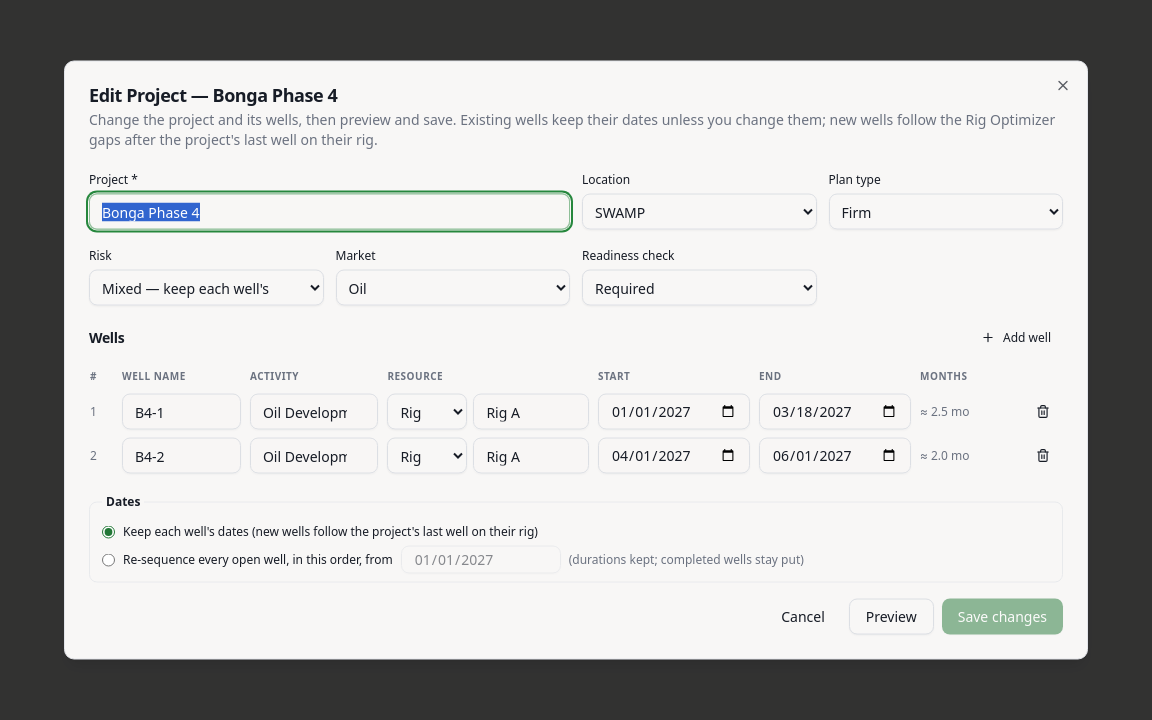
it: EditProjectDialog › sends a rename and a re-sequence
The width and height of the screenshot is (1152, 720).
Replace the text in the field labelled "Project *" with "Bonga 4B" at (330, 212), box [89,194,570,230]
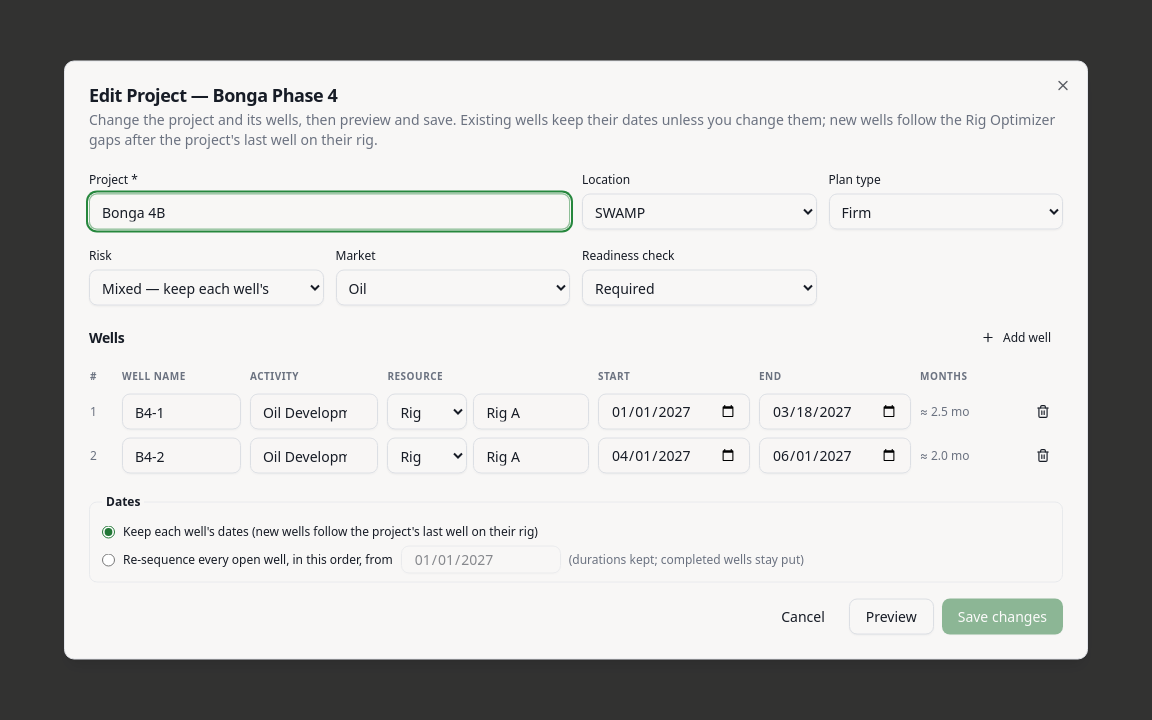
Click the radio button labelled "Re-sequence every open well" at (108, 560), box [102,553,115,566]
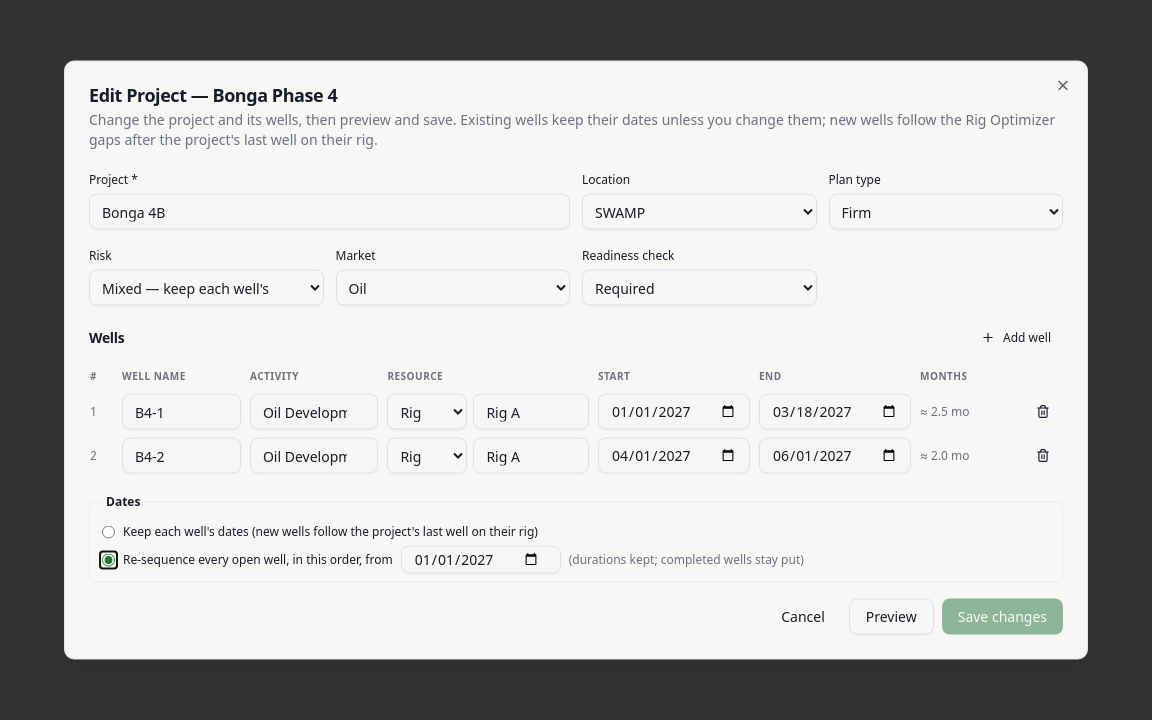
Click the button "Preview" at (891, 616), box [849,598,934,634]
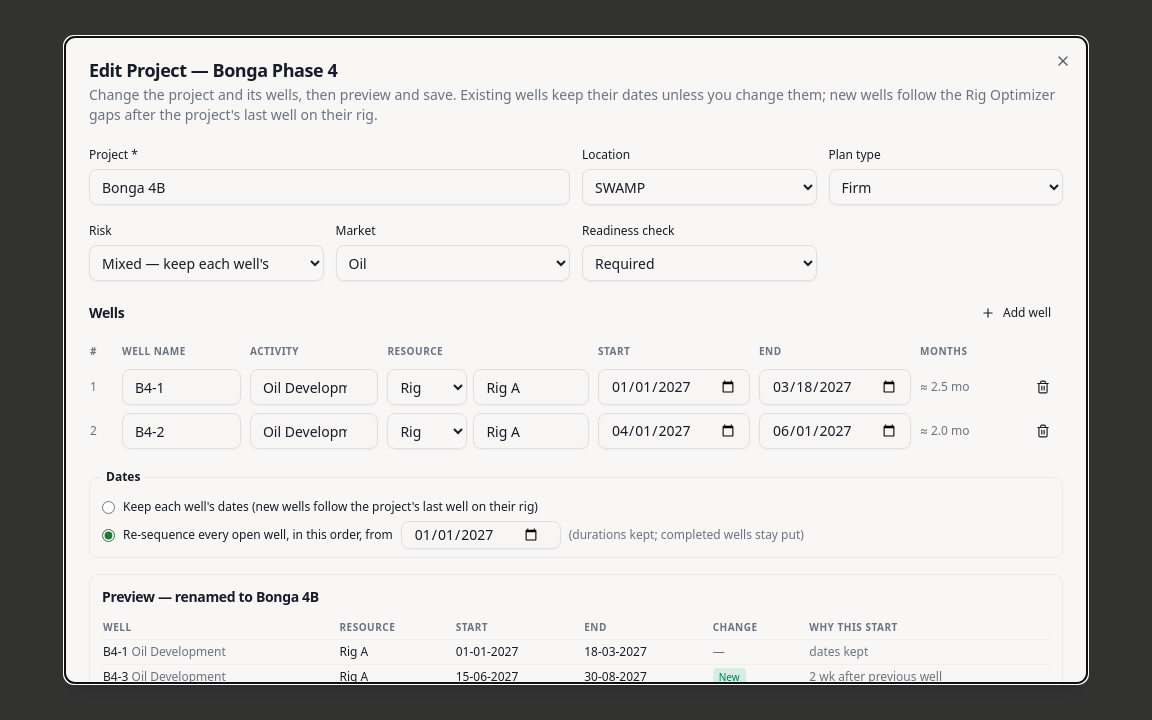
Check: the heading "Preview — renamed to Bonga 4B" is shown, box [102,587,319,606]
